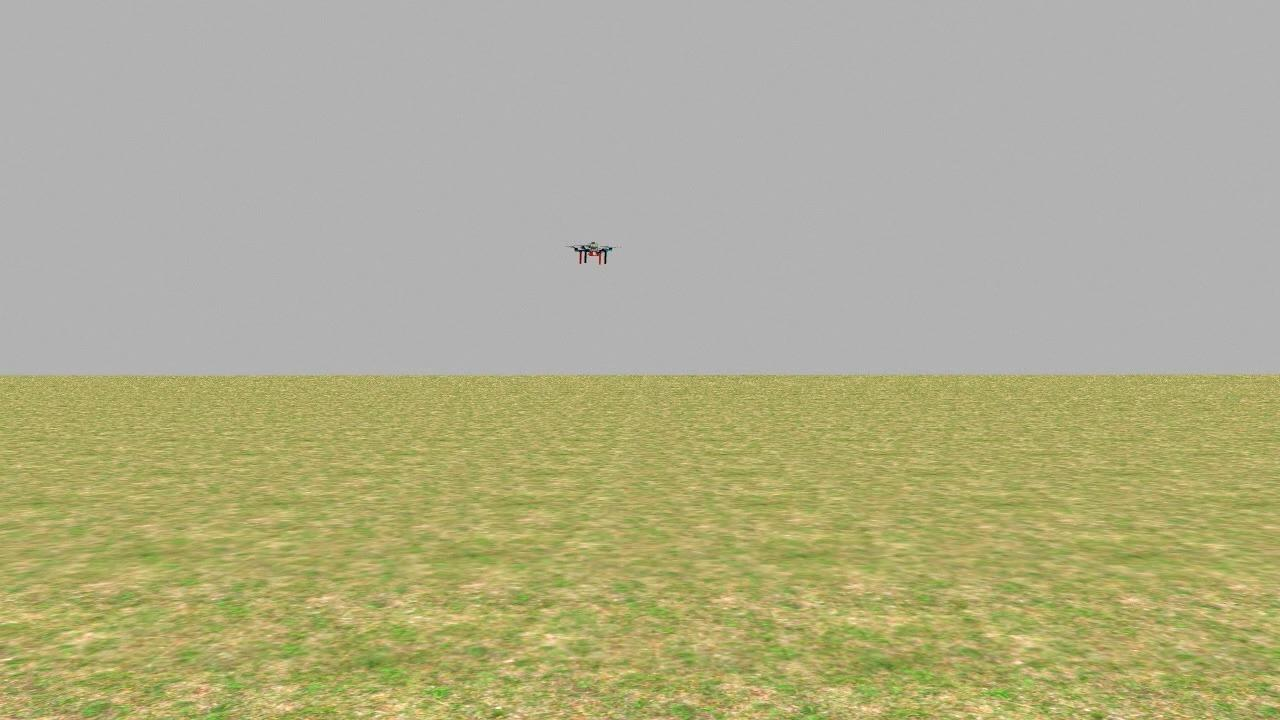UAV: (569, 236, 612, 274)
